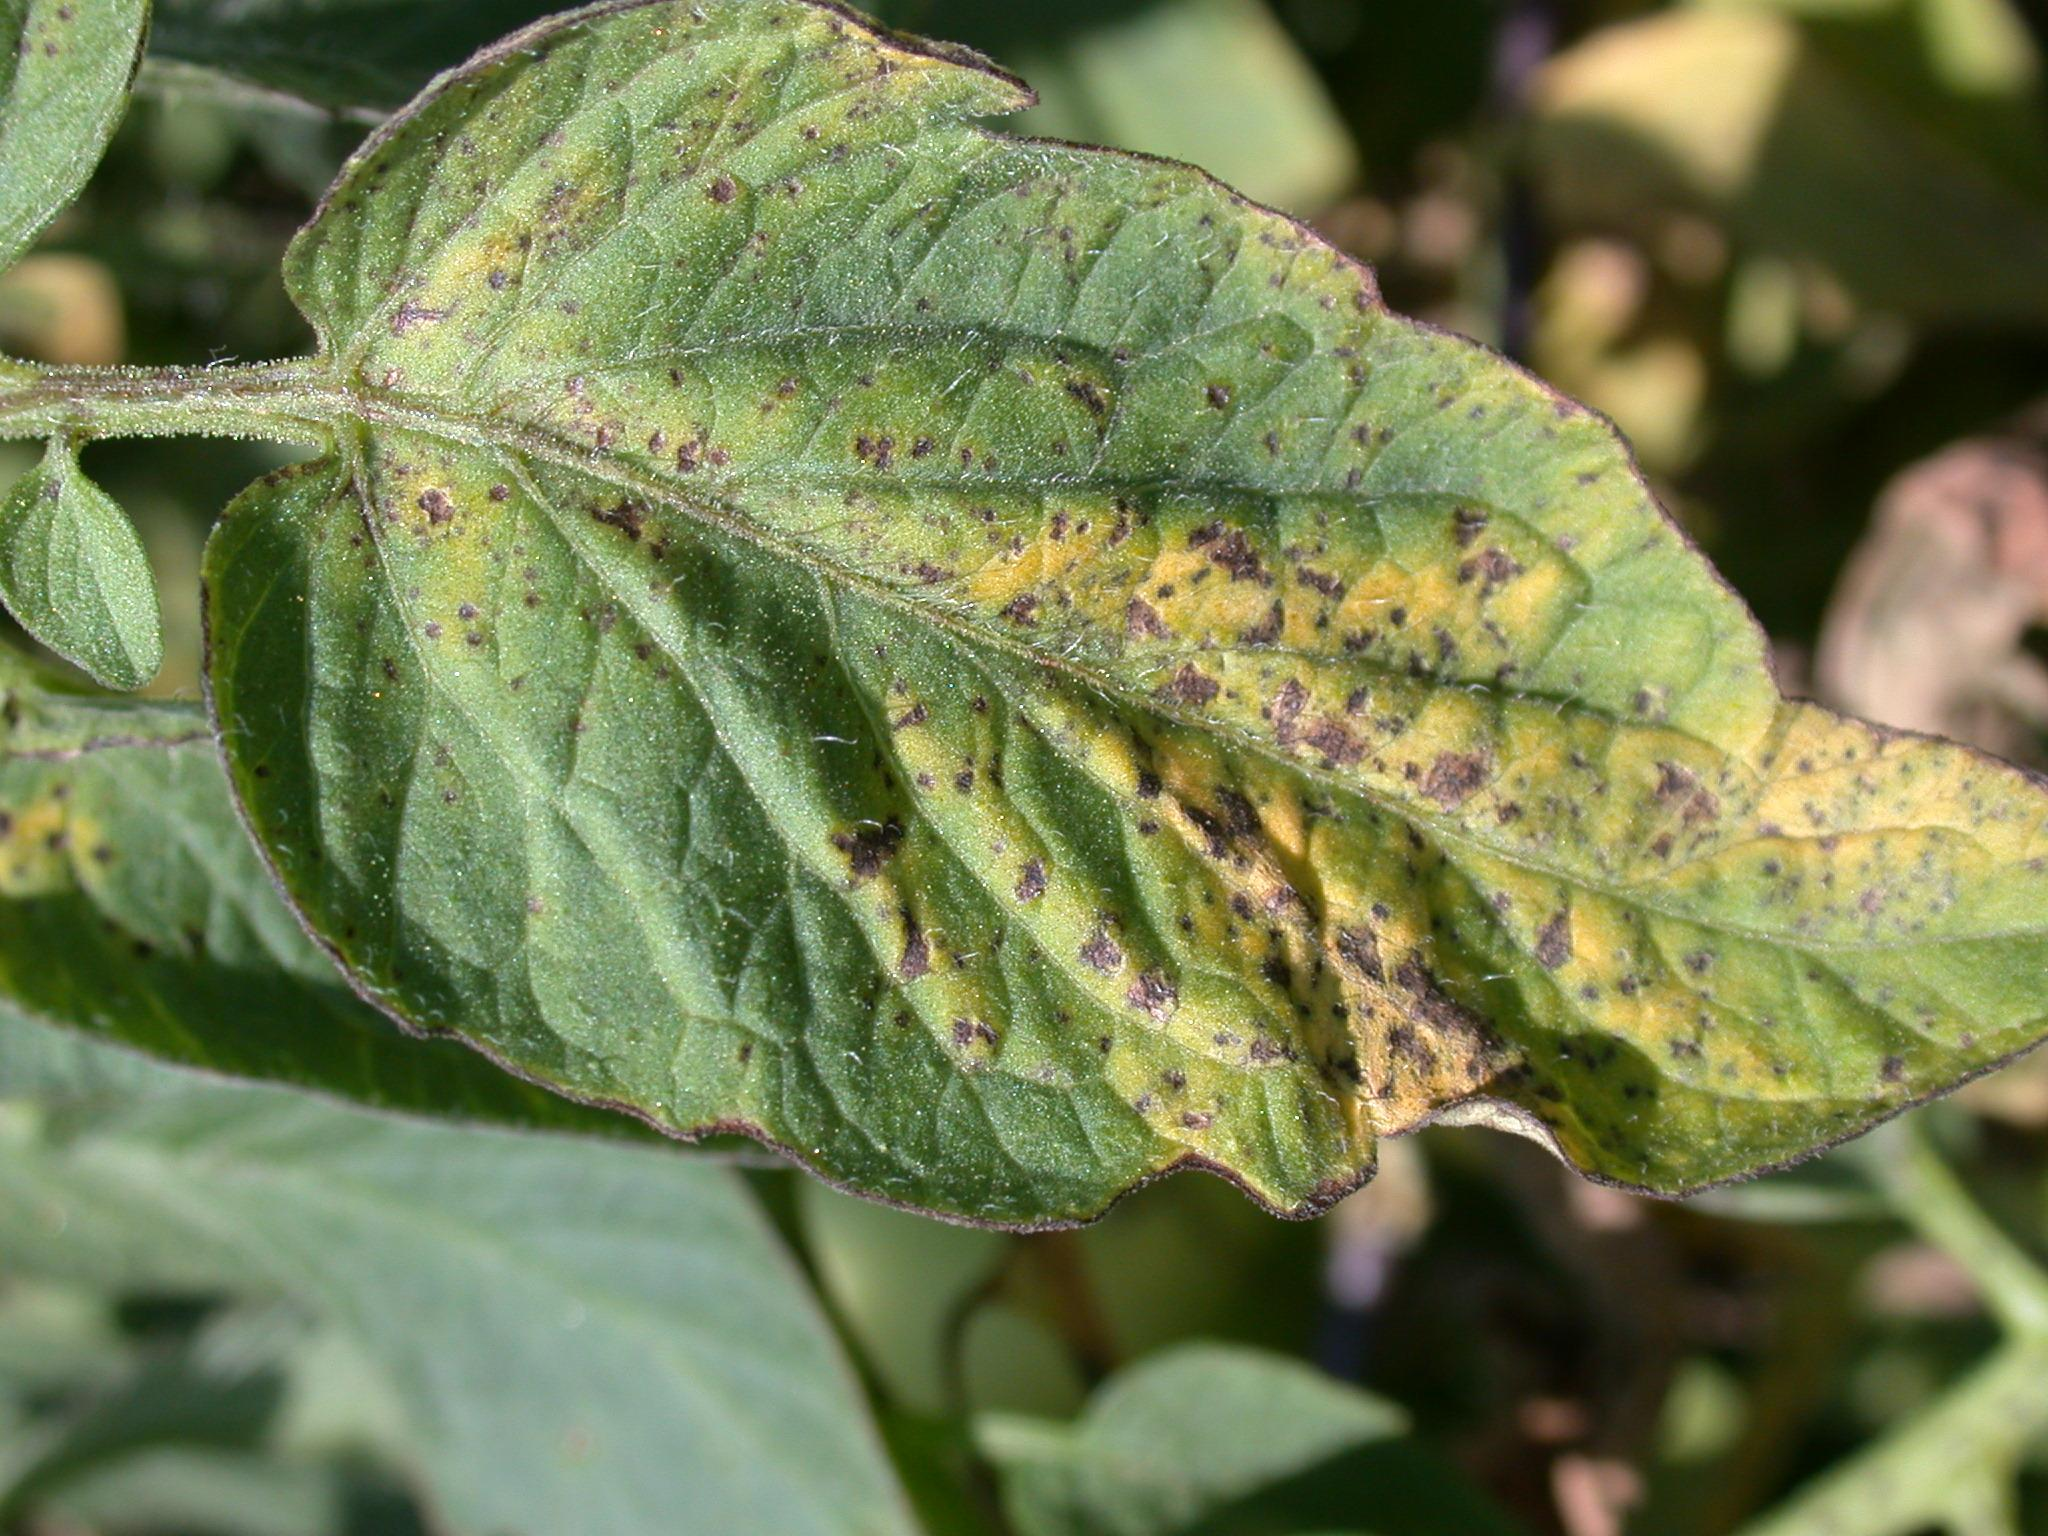Tomato leaf late blight: (185, 29, 2042, 1199)
